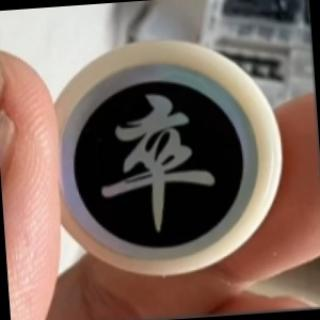qizi: (43, 31, 280, 266)
